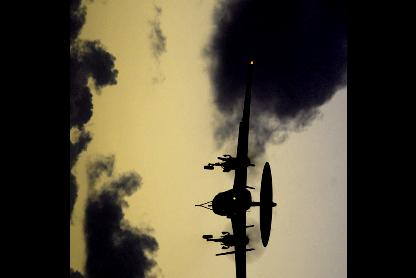C5: (193, 61, 277, 277)
